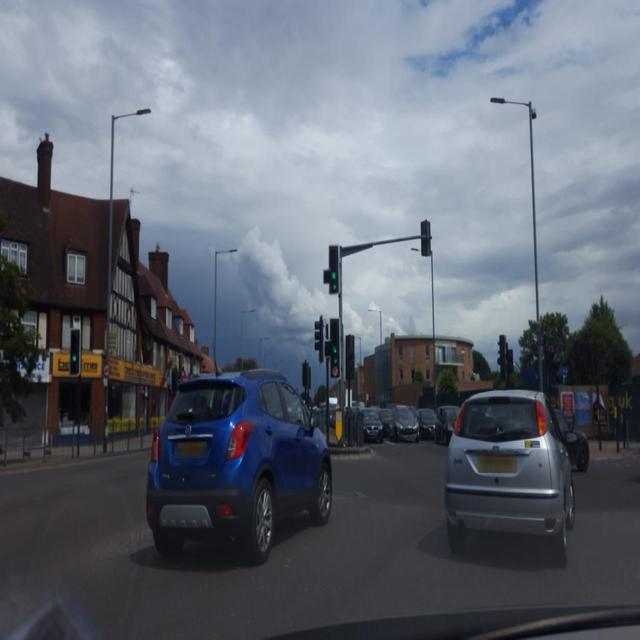Billboard: (80, 330, 163, 387), (552, 384, 639, 429), (33, 354, 69, 383), (164, 370, 171, 387)
Car: (146, 343, 332, 563), (361, 390, 589, 568)
Manhole: (332, 491, 367, 499)
Vegetation: (509, 295, 634, 386), (437, 349, 506, 394), (309, 384, 325, 406)
